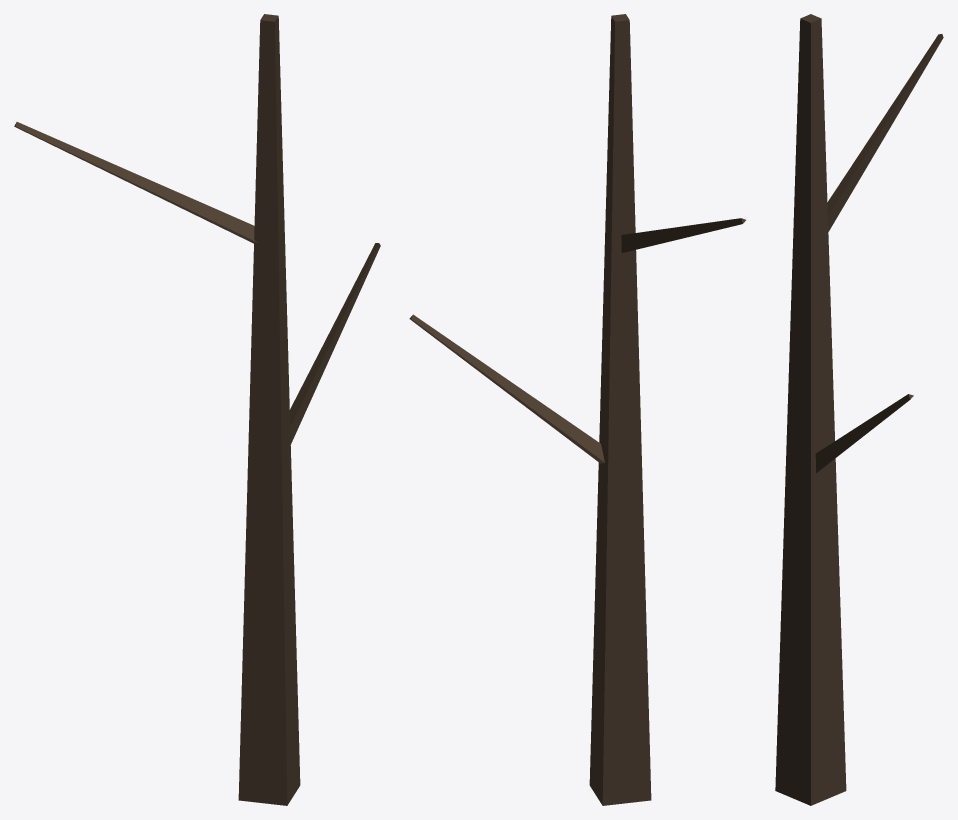
The model's file is tree_dead_lod2.glb.
3 views of the same model, side by side, from view 1: azimuth 30°, elevation 25°; view 2: azimuth 150°, elevation 25°; view 3: azimuth 270°, elevation 25° (orthographic).
Visible parts, largest first — view 1: tree_dead_lod2; view 2: tree_dead_lod2; view 3: tree_dead_lod2.
Part boxes in pixels (x1,y1,x2,y2): tree_dead_lod2: [14, 14, 380, 805]; tree_dead_lod2: [409, 14, 745, 805]; tree_dead_lod2: [775, 14, 943, 805].
Size of what is drawn, in the model's own units: 2.28 by 4.8 by 0.9475.
1 material, 1 textured.
